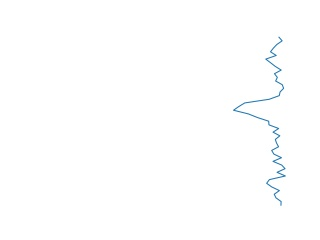interdistributaryEstuary: (232, 35, 290, 209)
